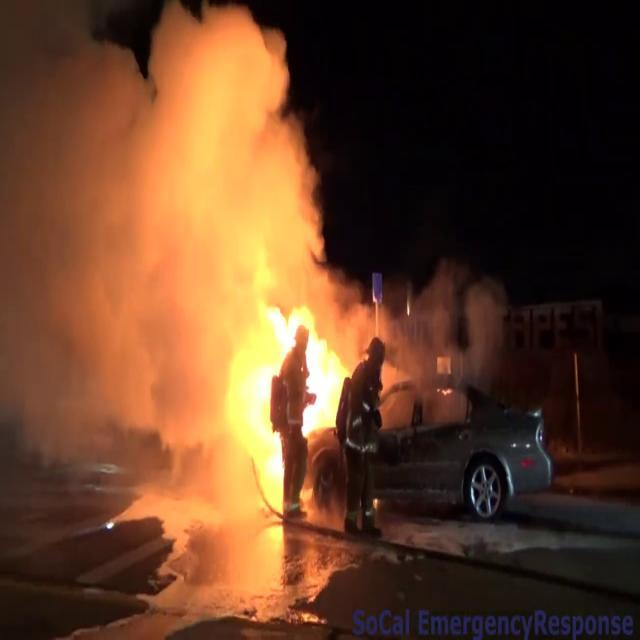Fire: (220, 261, 353, 512)
Smoke: (0, 1, 210, 472), (132, 2, 332, 292)
